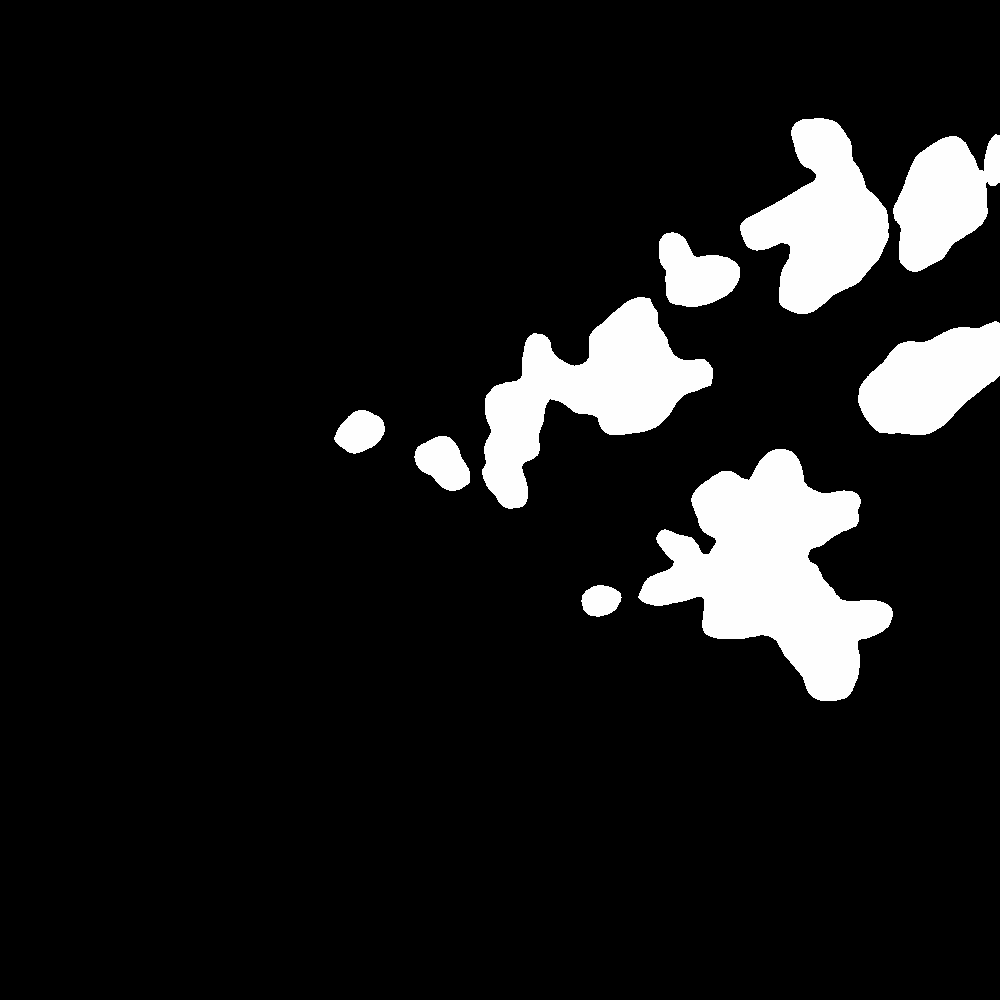illegal: (477, 117, 1000, 511), (576, 449, 886, 705), (864, 319, 1000, 438), (418, 435, 462, 492), (339, 413, 378, 450)
